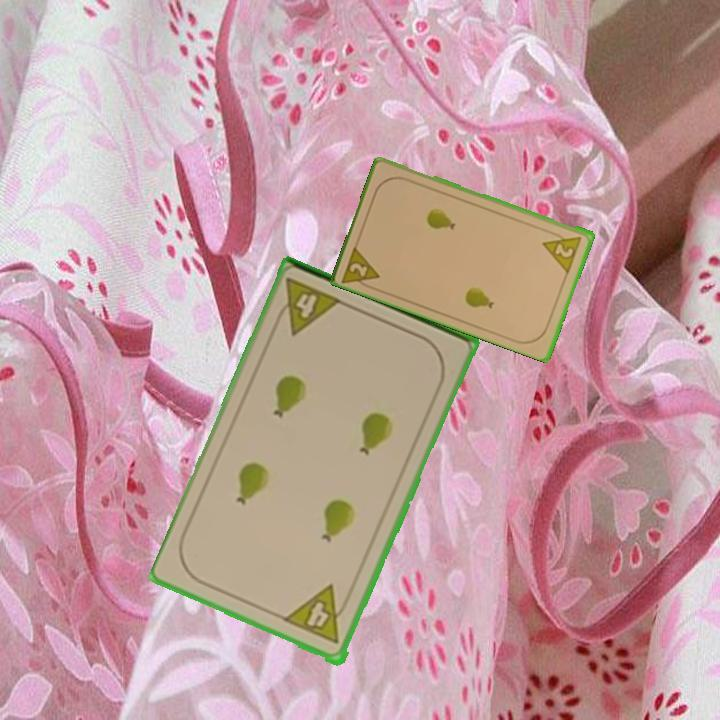2p: (339, 241, 383, 293), (539, 228, 585, 274)
4p: (269, 274, 345, 339), (282, 582, 355, 648)
